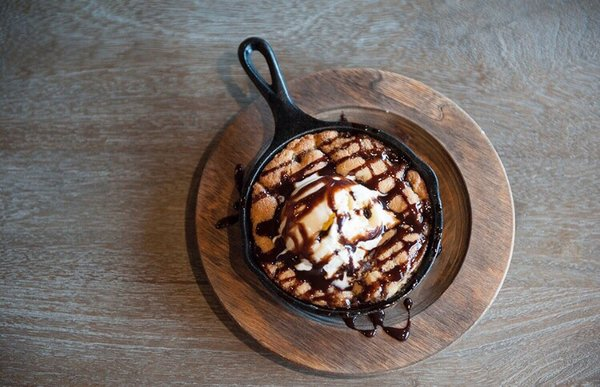curry: (24, 4, 599, 387)
